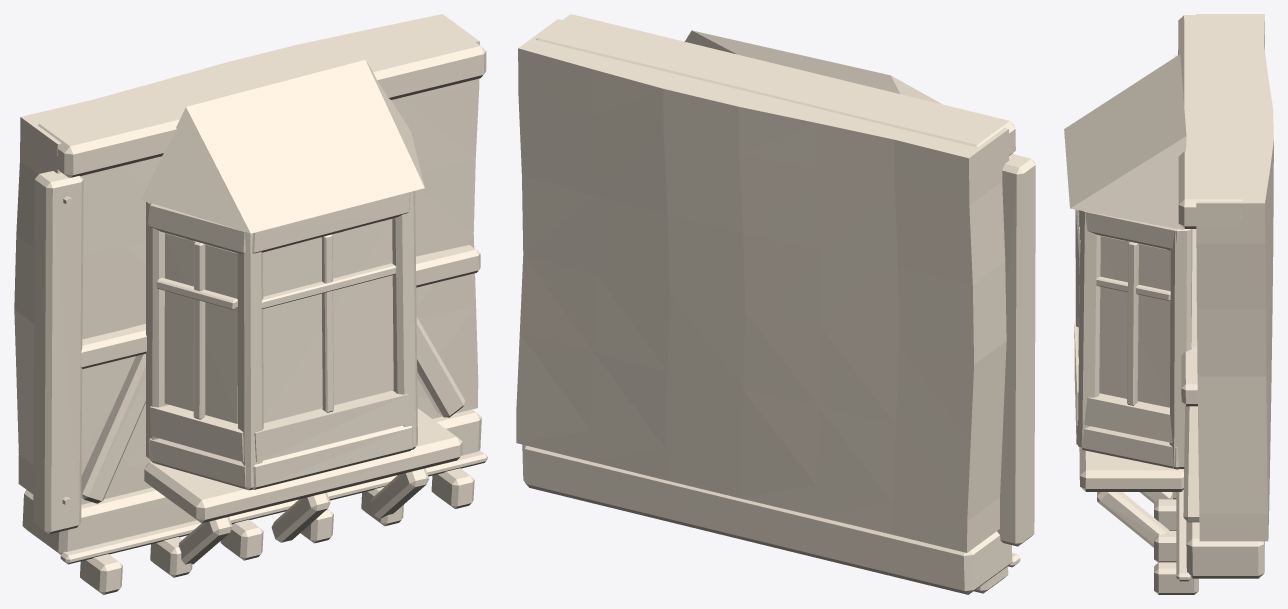
File: SM_VK_Wall_Timber_Oriel.fbx
The picture shows the model from 3 angles, left to right: view 1: azimuth 30°, elevation 25°; view 2: azimuth 150°, elevation 25°; view 3: azimuth 270°, elevation 25°; orthographic projection. The views are drawn at different scales.
Visible parts, largest first — view 1: SM_VK_Wall_Timber_Oriel.001; view 2: SM_VK_Wall_Timber_Oriel.001; view 3: SM_VK_Wall_Timber_Oriel.001.
Boxes of the visible parts, box(x1,y1,x2,y2) form: SM_VK_Wall_Timber_Oriel.001: box(14, 14, 487, 594); SM_VK_Wall_Timber_Oriel.001: box(516, 14, 1035, 594); SM_VK_Wall_Timber_Oriel.001: box(1064, 14, 1273, 594).
Size of the model in its own units: 3.13 by 3.1 by 1.41.
